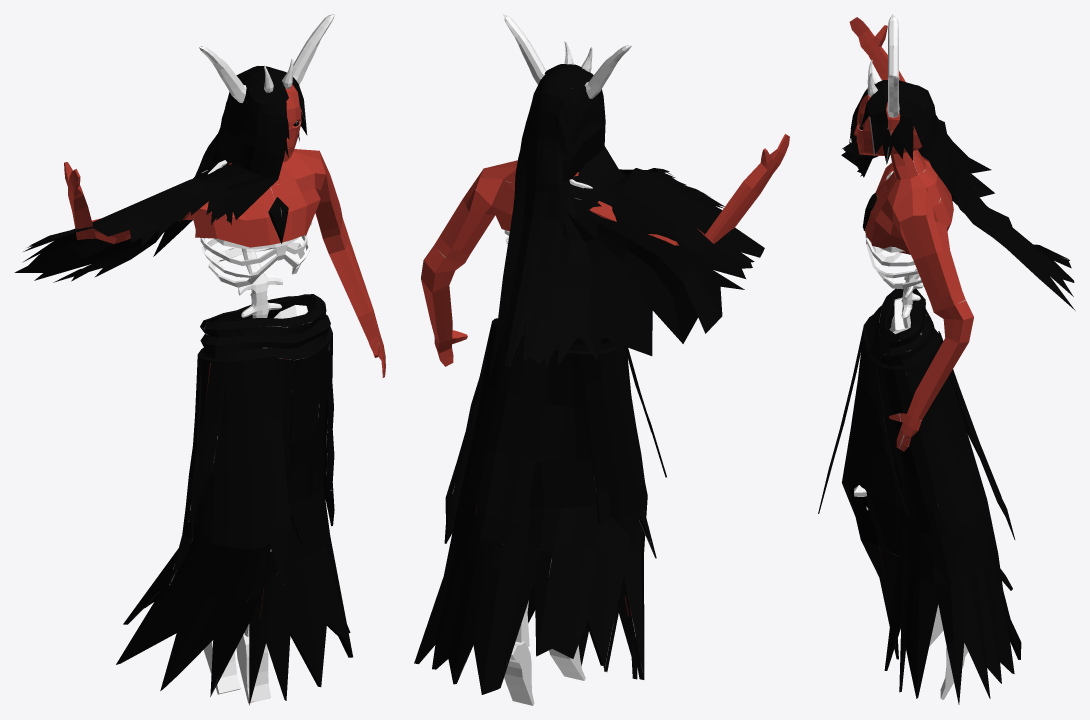
Rendered from cursedqueenattack_06.fbx.
3 renders of one model, left to right at view 1: azimuth 30°, elevation 25°; view 2: azimuth 150°, elevation 25°; view 3: azimuth 270°, elevation 25°, orthographic. The views are drawn at different scales.
Visible parts, largest first — view 1: cursed_queen; view 2: cursed_queen; view 3: cursed_queen.
Part boxes in pixels (<box>): cursed_queen: <box>14,14,385,705</box>; cursed_queen: <box>414,14,789,705</box>; cursed_queen: <box>818,14,1075,704</box>.
Bounding box in the file's own units: 147 × 280 × 102.
